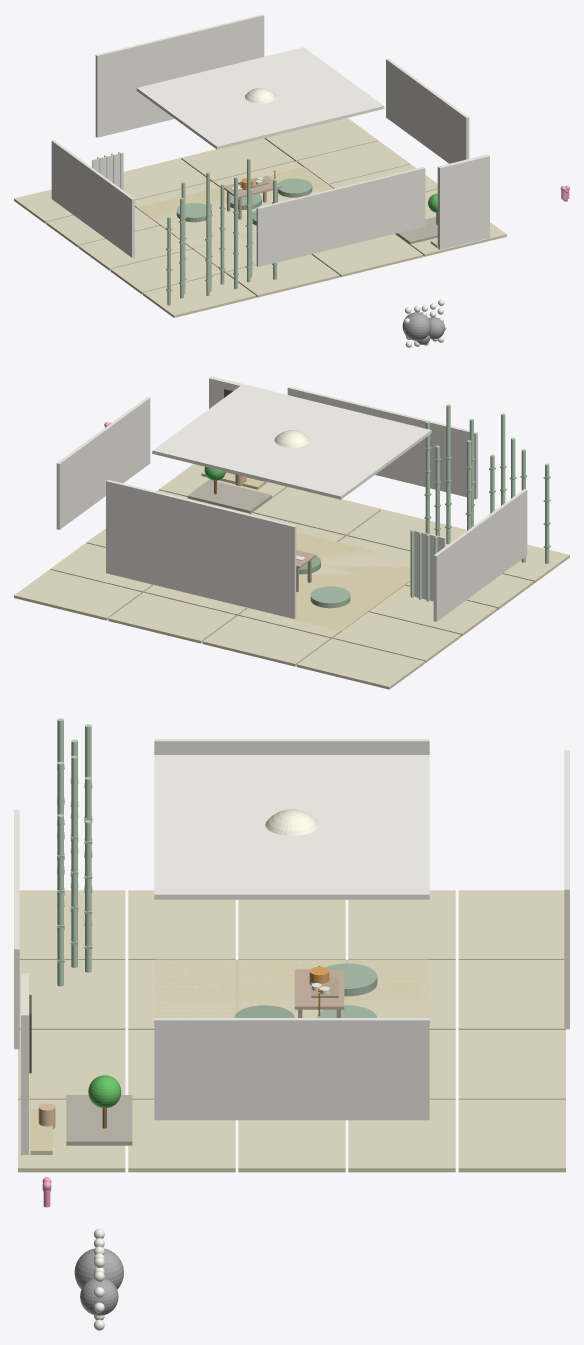
The model's file is room_tea.glb.
3 views of the same model, one above another, from view 1: azimuth 30°, elevation 25°; view 2: azimuth 150°, elevation 25°; view 3: azimuth 270°, elevation 25° (orthographic). The views are drawn at different scales.
Parts seen in each view (by area): view 1: Ceiling, BackWall, FrontWall_T, LeftWall, RightWall, TokoBack, Tatami_3_3, Tatami_3_4, Tatami_2_0, Tatami_2_4, Tatami_0_0, Tatami_1_0 (+21 smaller); view 2: FrontWall_T, Ceiling, LeftWall, RightWall, Floor, BackWall, Tatami_0_4, Tatami_1_4, Tatami_2_4, Tatami_3_4, Tatami_0_3, Tatami_2_0 (+21 smaller); view 3: Ceiling, RightWall, Floor, Tatami_3_4, Tatami_2_4, Tatami_1_4, Tatami_0_4, Tatami_0_1, Tatami_0_3, Tatami_1_0, Tatami_0_2, Tatami_1_1 (+25 smaller).
Boxes of the visible parts, x1,y1,x2,y2 form: Ceiling: (136,47,384,149); BackWall: (256,167,425,266); FrontWall_T: (95,14,264,137); LeftWall: (51,140,134,257); RightWall: (386,58,469,163); TokoBack: (437,154,489,249); Tatami_3_3: (297,141,410,184); Tatami_3_4: (264,118,378,161); Tatami_2_0: (311,234,423,277); Tatami_2_4: (181,138,294,182); Tatami_0_0: (142,272,256,317); Tatami_1_0: (226,254,339,297); FrontWall_T: (106,480,296,618); Ceiling: (152,384,431,499); LeftWall: (433,489,527,621); RightWall: (56,397,150,529); Floor: (152,532,410,632); BackWall: (287,386,477,499); Tatami_0_4: (296,638,424,689); Tatami_1_4: (202,615,330,666); Tatami_2_4: (108,592,236,643); Tatami_3_4: (14,569,141,620); Tatami_0_3: (333,612,460,662); Tatami_2_0: (253,487,381,536); Ceiling: (154,755,429,899); RightWall: (154,1018,429,1120); Floor: (154,959,429,1017); Tatami_3_4: (458,1099,565,1172); Tatami_2_4: (458,1030,565,1099); Tatami_1_4: (458,960,565,1029); Tatami_0_4: (458,890,564,959); Tatami_0_1: (128,890,235,959); Tatami_0_3: (348,890,455,959); Tatami_1_0: (19,960,125,1029); Tatami_0_2: (238,899,345,959); Tatami_1_1: (128,960,235,1029).
Bounding box in the file's own units: 1458 × 830 × 1010.
